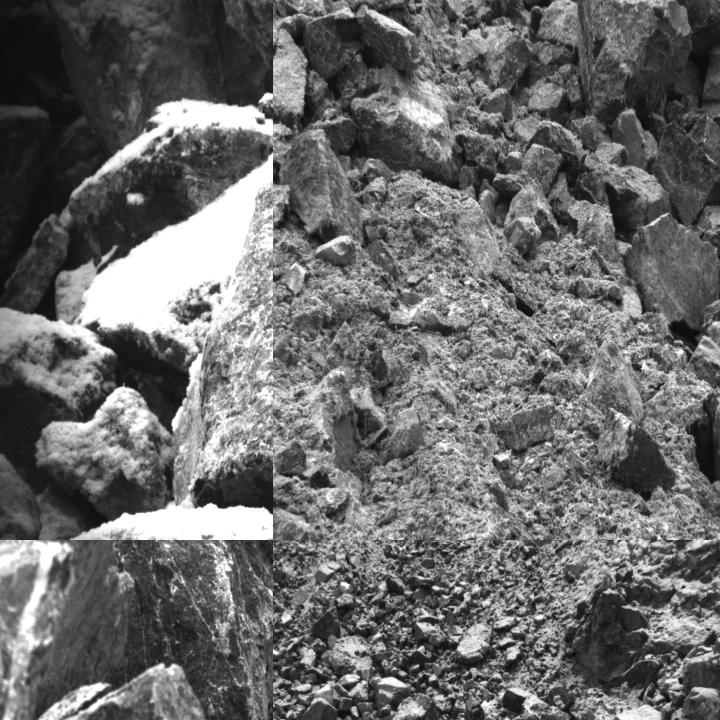stone: (169, 115, 272, 539), (46, 0, 232, 157), (67, 125, 272, 267), (0, 308, 119, 464), (35, 385, 173, 519), (1, 661, 253, 719), (577, 0, 692, 126), (0, 540, 80, 719), (350, 63, 460, 183), (625, 213, 719, 332), (0, 100, 56, 298), (281, 128, 364, 245), (280, 127, 364, 242), (650, 120, 719, 230), (575, 332, 644, 435), (596, 407, 676, 493), (597, 406, 675, 492), (570, 171, 625, 283), (619, 0, 719, 57), (361, 6, 430, 73), (302, 7, 360, 81), (304, 10, 364, 80), (481, 24, 534, 95), (273, 27, 309, 125), (528, 119, 589, 173), (505, 179, 559, 237), (611, 109, 659, 173), (688, 114, 719, 209), (499, 402, 557, 452), (701, 42, 719, 172), (310, 105, 356, 151), (522, 143, 562, 195), (536, 0, 579, 48), (684, 335, 719, 390), (365, 346, 402, 390), (314, 236, 368, 266), (390, 691, 447, 719), (373, 674, 412, 714), (503, 218, 546, 253), (699, 206, 719, 279), (458, 620, 492, 662), (666, 61, 702, 96), (273, 445, 291, 514), (681, 688, 719, 719), (702, 275, 719, 342), (481, 88, 513, 121), (609, 701, 665, 719), (706, 321, 719, 385), (648, 112, 668, 143), (273, 187, 285, 230), (664, 100, 684, 125), (372, 0, 412, 10)
